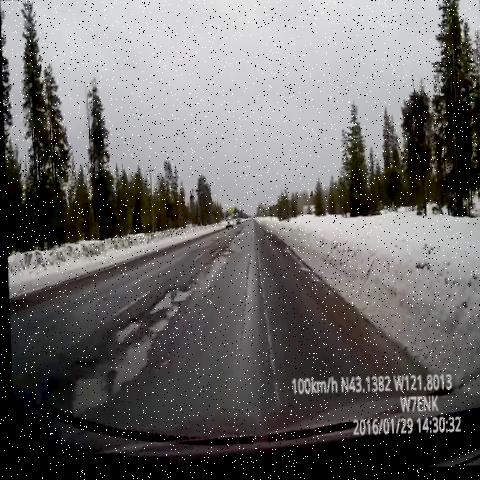pothole: (97, 272, 202, 397), (205, 225, 248, 268)
